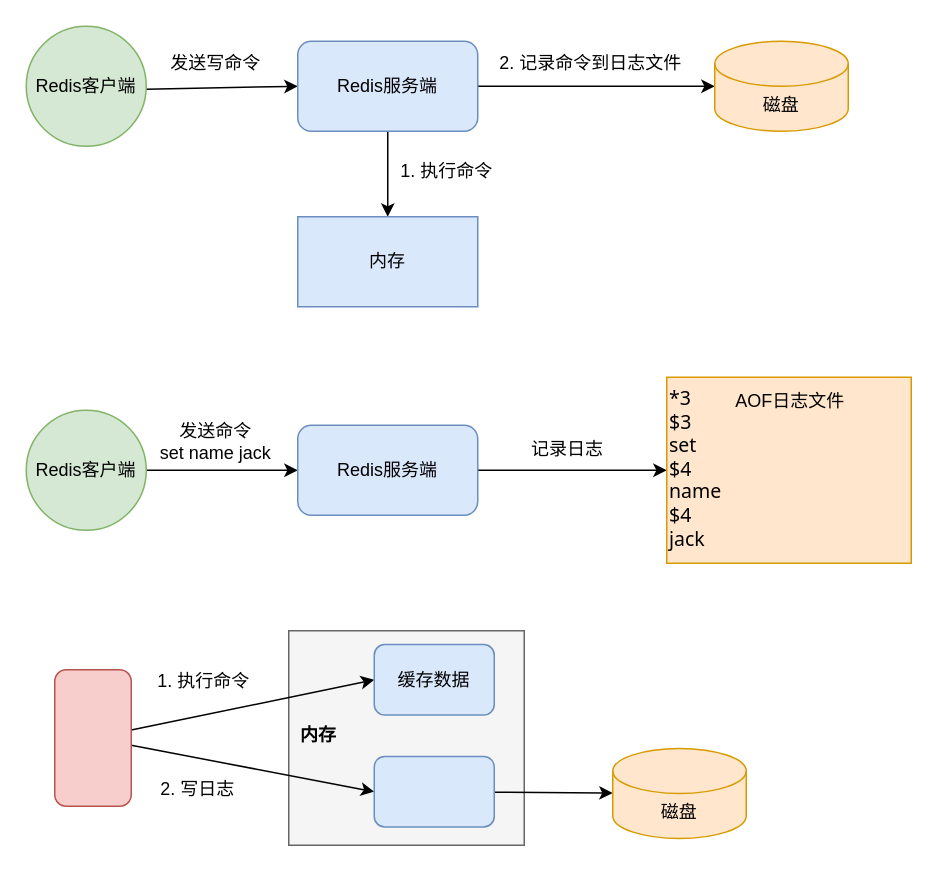
Image size: 938x872. Some labels were removed from this diagram. Here are the shapes that lost their labels. From the top down, the centre of each, then its label:
pixel 92 737: 主进程
pixel 433 791: AOF缓存区
